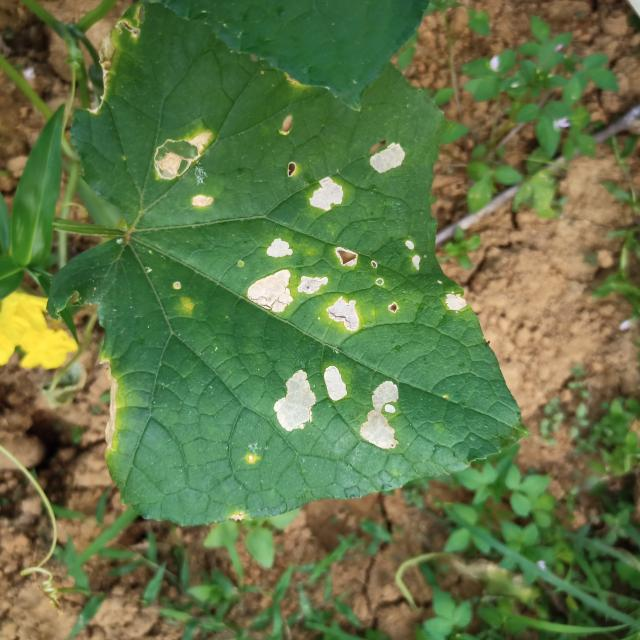disease_cucumber: (246, 236, 360, 335), (152, 130, 224, 210), (272, 364, 349, 432), (359, 379, 401, 452), (308, 177, 347, 213), (368, 140, 405, 177), (401, 238, 425, 275), (442, 288, 468, 315)
